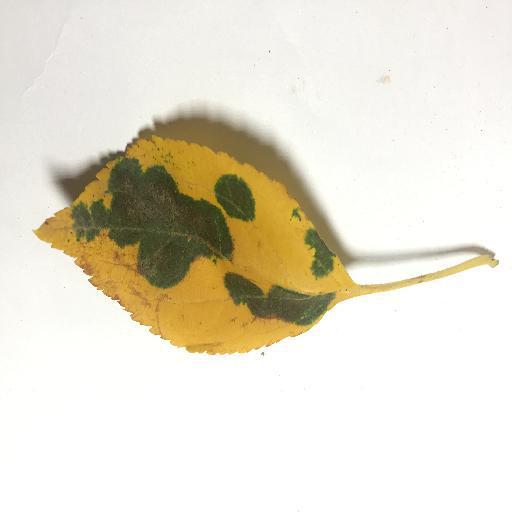Brown_Spot: (112, 178, 225, 250), (239, 285, 324, 320)
